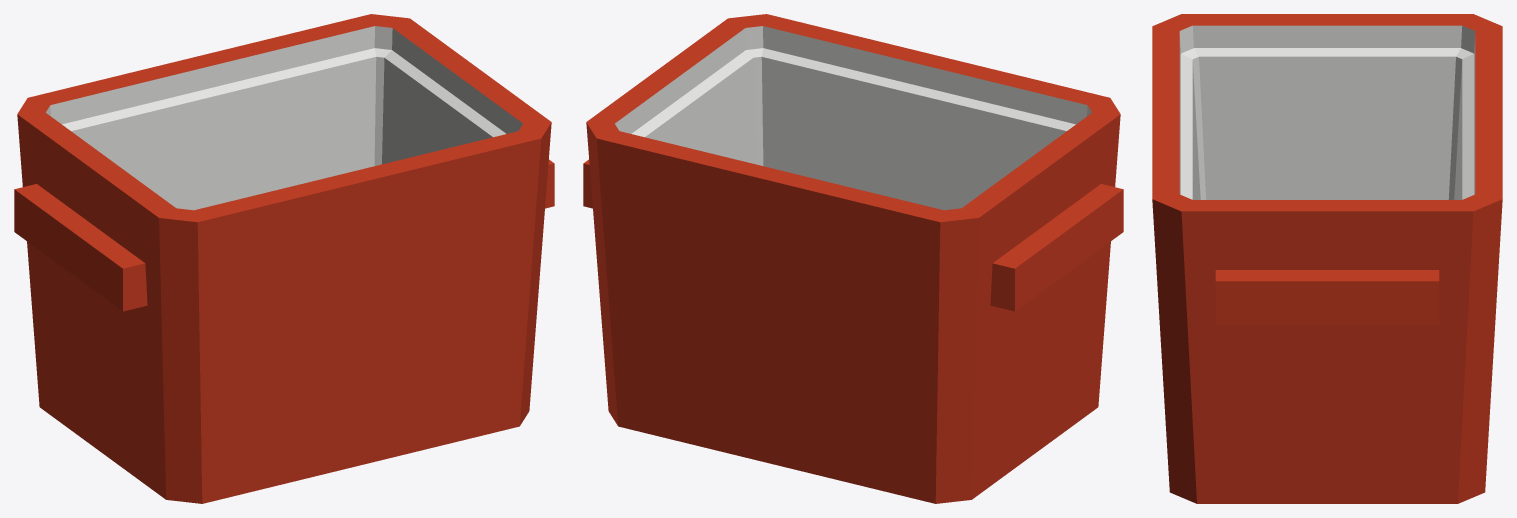
File: SM_Cook_CoolerBox_Body_01.fbx
The picture shows the model from 3 angles, left to right: view 1: azimuth 30°, elevation 25°; view 2: azimuth 150°, elevation 25°; view 3: azimuth 270°, elevation 25°; orthographic projection. The views are drawn at different scales.
Visible parts, largest first — view 1: SM_Cook_CoolerBox_Body_01; view 2: SM_Cook_CoolerBox_Body_01; view 3: SM_Cook_CoolerBox_Body_01.
Boxes of the visible parts, left/top/right/bottom form: SM_Cook_CoolerBox_Body_01: left=14, top=14, right=554, bottom=503; SM_Cook_CoolerBox_Body_01: left=583, top=14, right=1123, bottom=503; SM_Cook_CoolerBox_Body_01: left=1152, top=14, right=1502, bottom=503.
Bounding box in the file's own units: 0.5275 × 0.34 × 0.36.
1 material, 1 textured.
